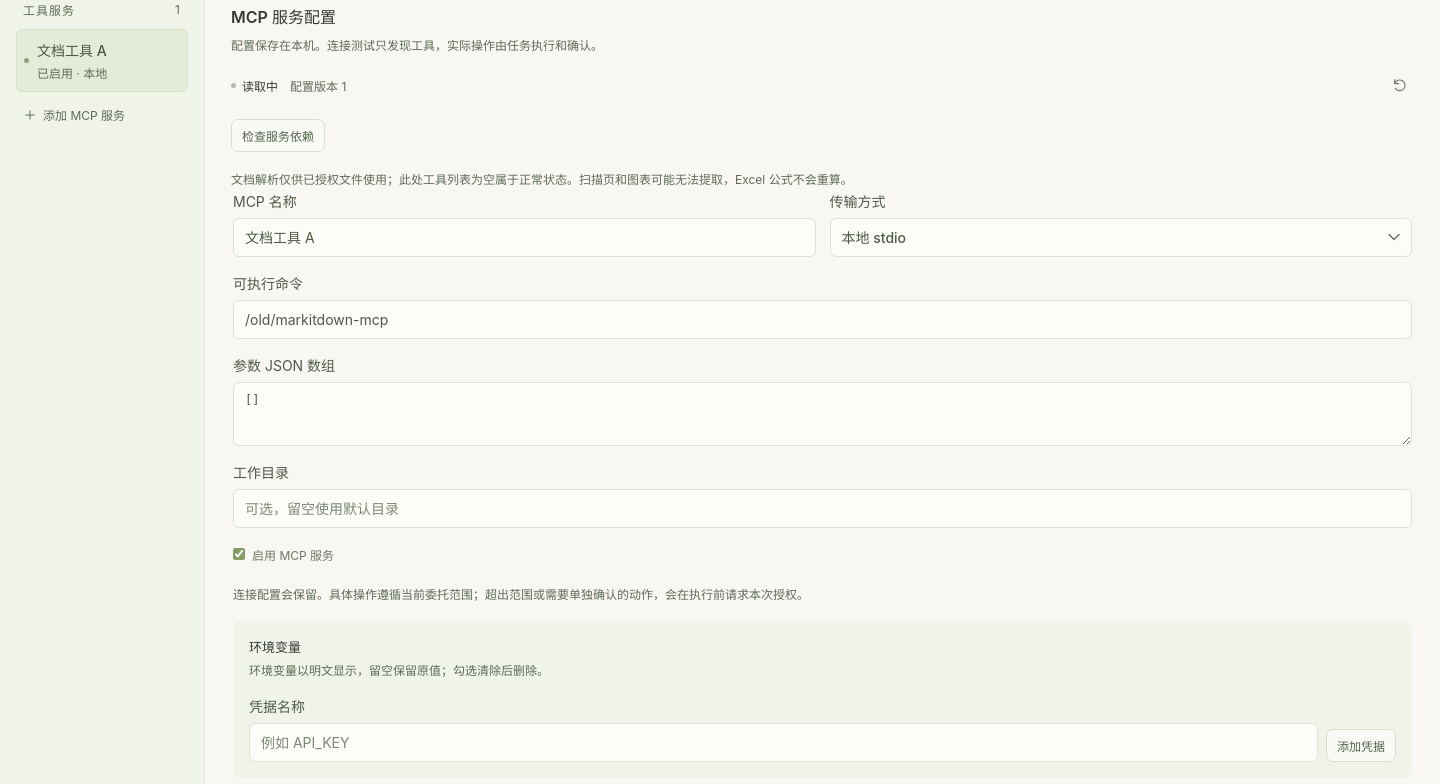
Scenario: failed saved-preset connections show setup while retaining the original error and draft
The image size is (1440, 784).
Replace the text in the field showing "文档工具 A" with "保存前的草稿" at (524, 237), box [233, 218, 816, 257]
(page scrolled)
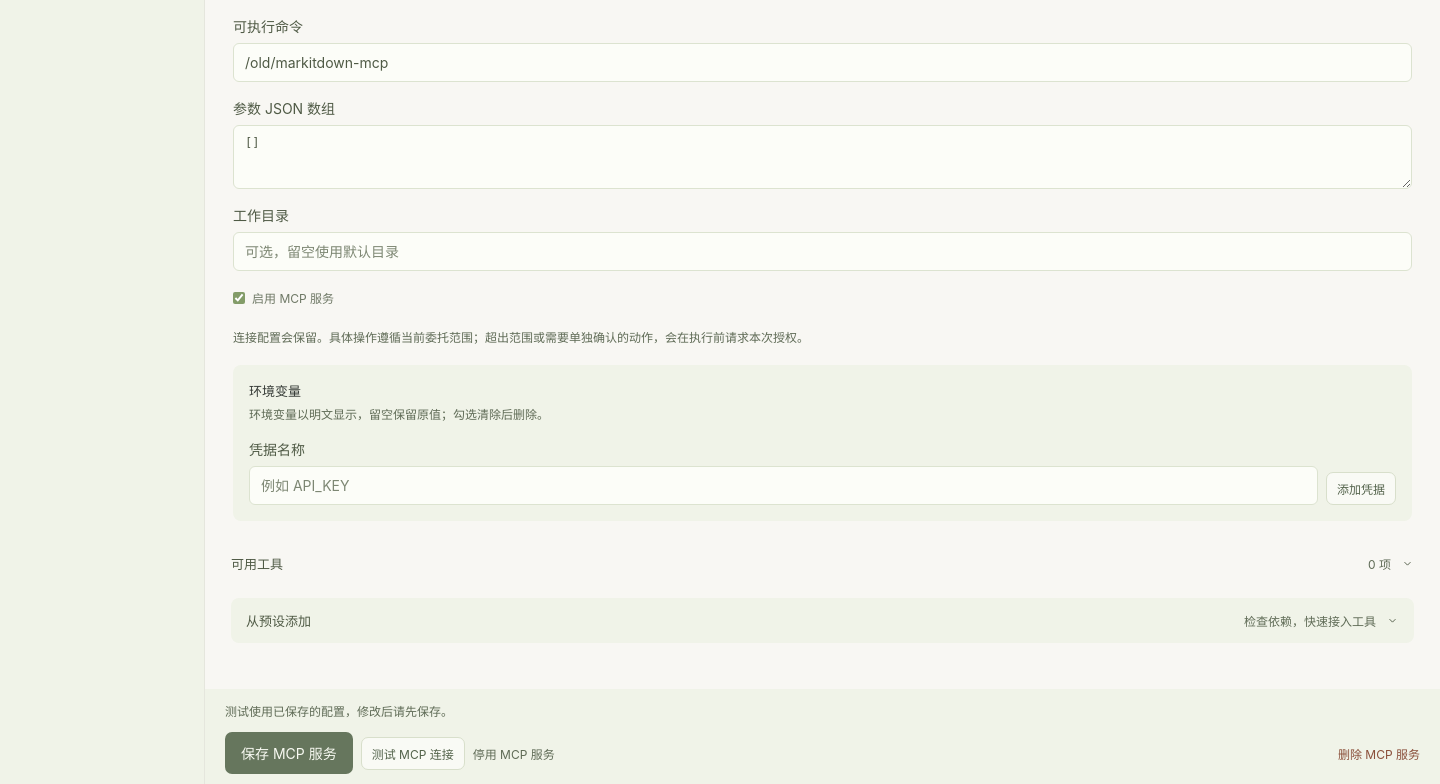
Click the button "测试 MCP 连接" at (413, 753), box [361, 737, 465, 770]
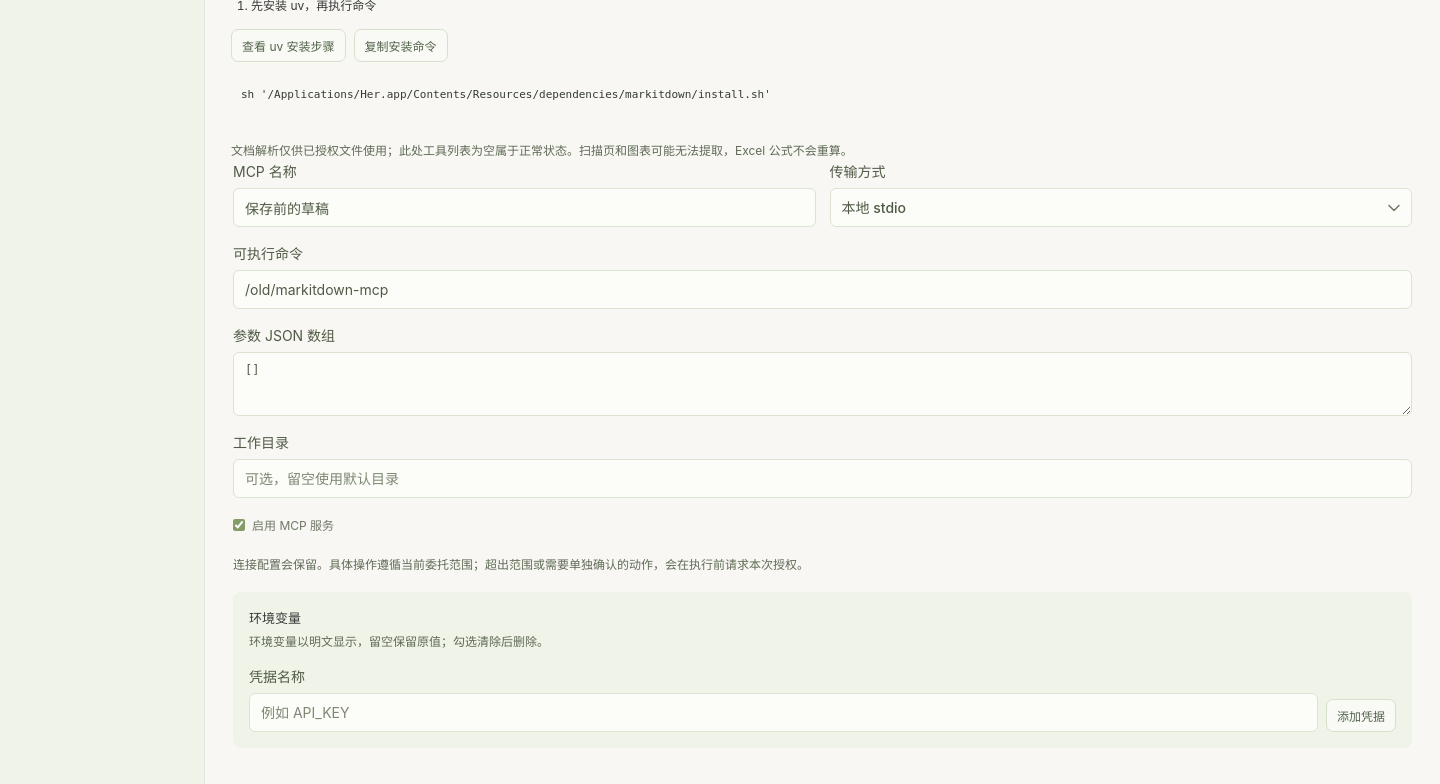
Expected: the button "查看 uv 安装步骤" is shown, [231, 29, 346, 62]
